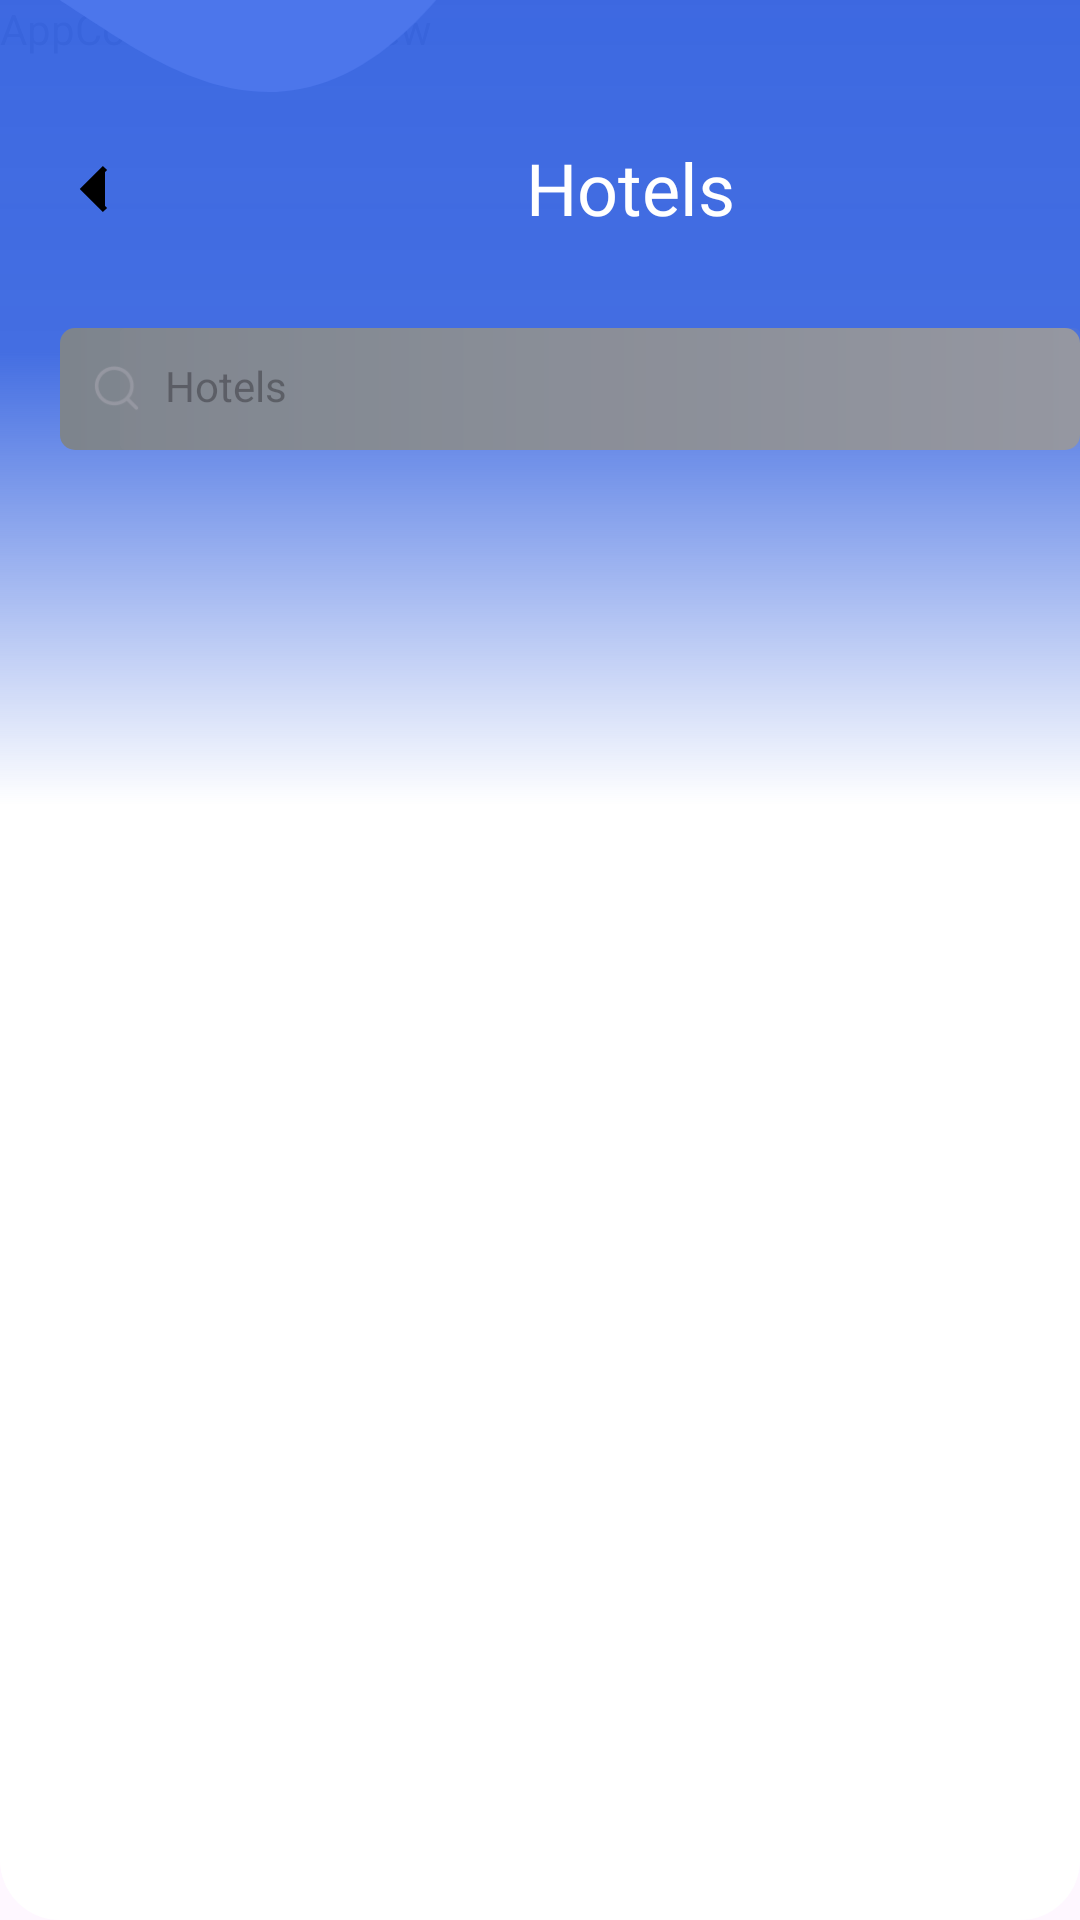

Where icons sit on this 1080px x 1920px app screen, as {"x1": x1, "y1": y1, "x2": x2, "y2": y2}:
hotel arrow back: {"x1": 80, "y1": 166, "x2": 107, "y2": 212}
